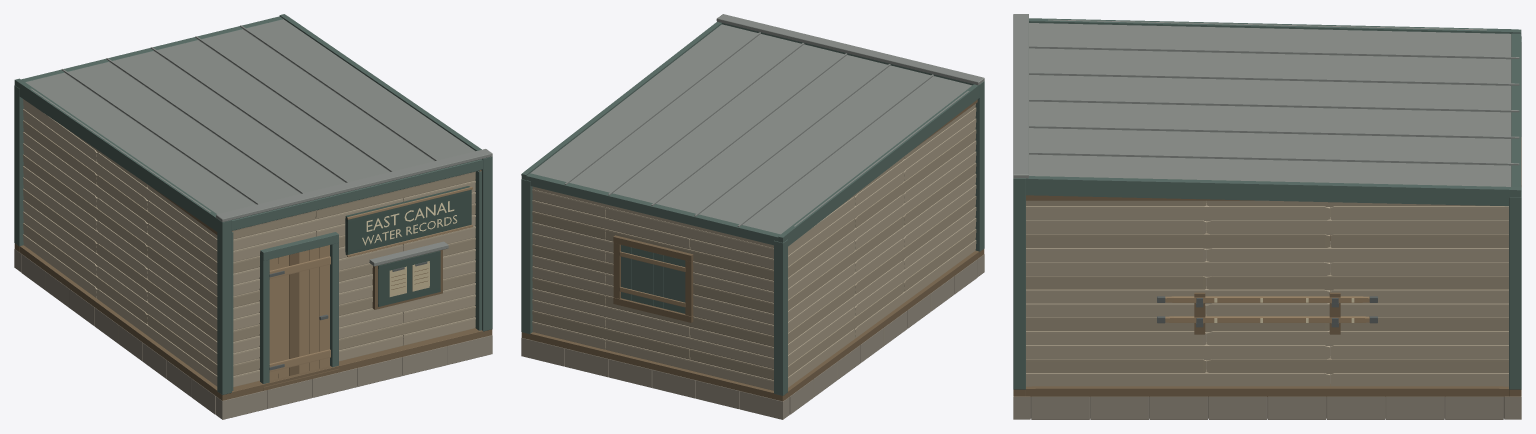
Rendered from EastGageExterior_r002.glb.
3 renders of one model, left to right at view 1: azimuth 30°, elevation 25°; view 2: azimuth 150°, elevation 25°; view 3: azimuth 270°, elevation 25°, orthographic. The views are drawn at different scales.
Parts seen in each view (by area): view 1: EastGageExterior; view 2: EastGageExterior; view 3: EastGageExterior.
Boxes of the visible parts, <box> form: EastGageExterior: <box>14,14,492,419</box>; EastGageExterior: <box>521,14,984,419</box>; EastGageExterior: <box>1013,14,1521,419</box>.
Size of the model in its own units: 4.5 by 3.19 by 6.
